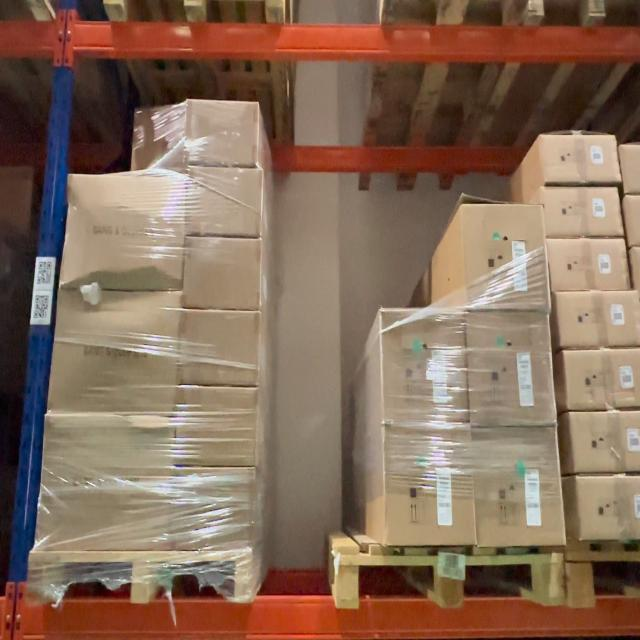box: (34, 414, 176, 551), (47, 288, 182, 418), (59, 172, 187, 289), (471, 419, 566, 548), (381, 423, 476, 548), (466, 308, 557, 428), (460, 196, 550, 312), (381, 308, 468, 424), (169, 468, 258, 550), (173, 386, 260, 466), (178, 309, 263, 388), (181, 235, 263, 311), (184, 164, 265, 238), (554, 290, 640, 350), (183, 99, 259, 166), (546, 237, 632, 292), (537, 130, 622, 184), (540, 185, 626, 238), (131, 101, 187, 175)
